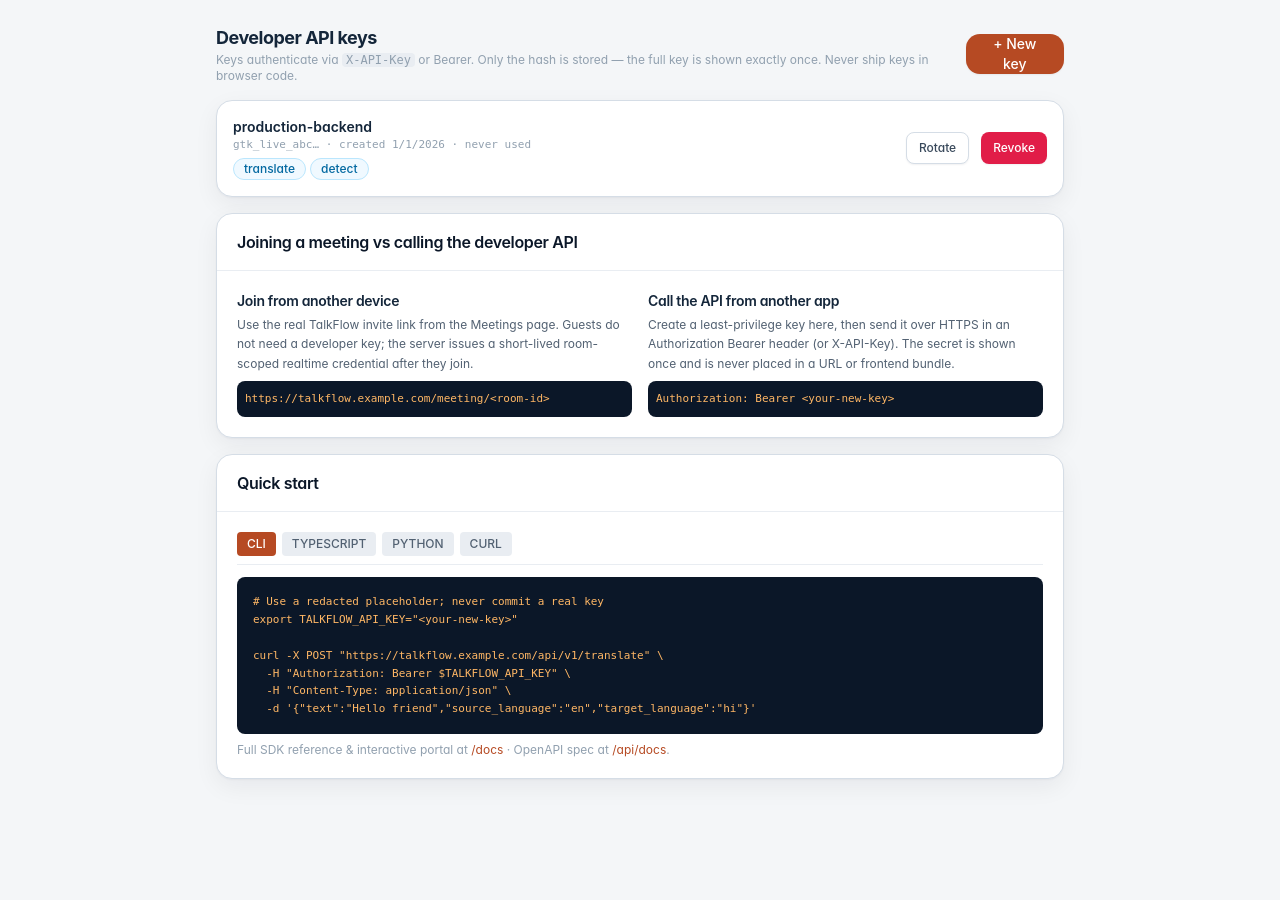
it: ApiKeys canonical service contract › shows plaintext_key returned by rotation
This screenshot has width=1280, height=900.
Click the button "Rotate" at (938, 148), box [906, 132, 969, 164]
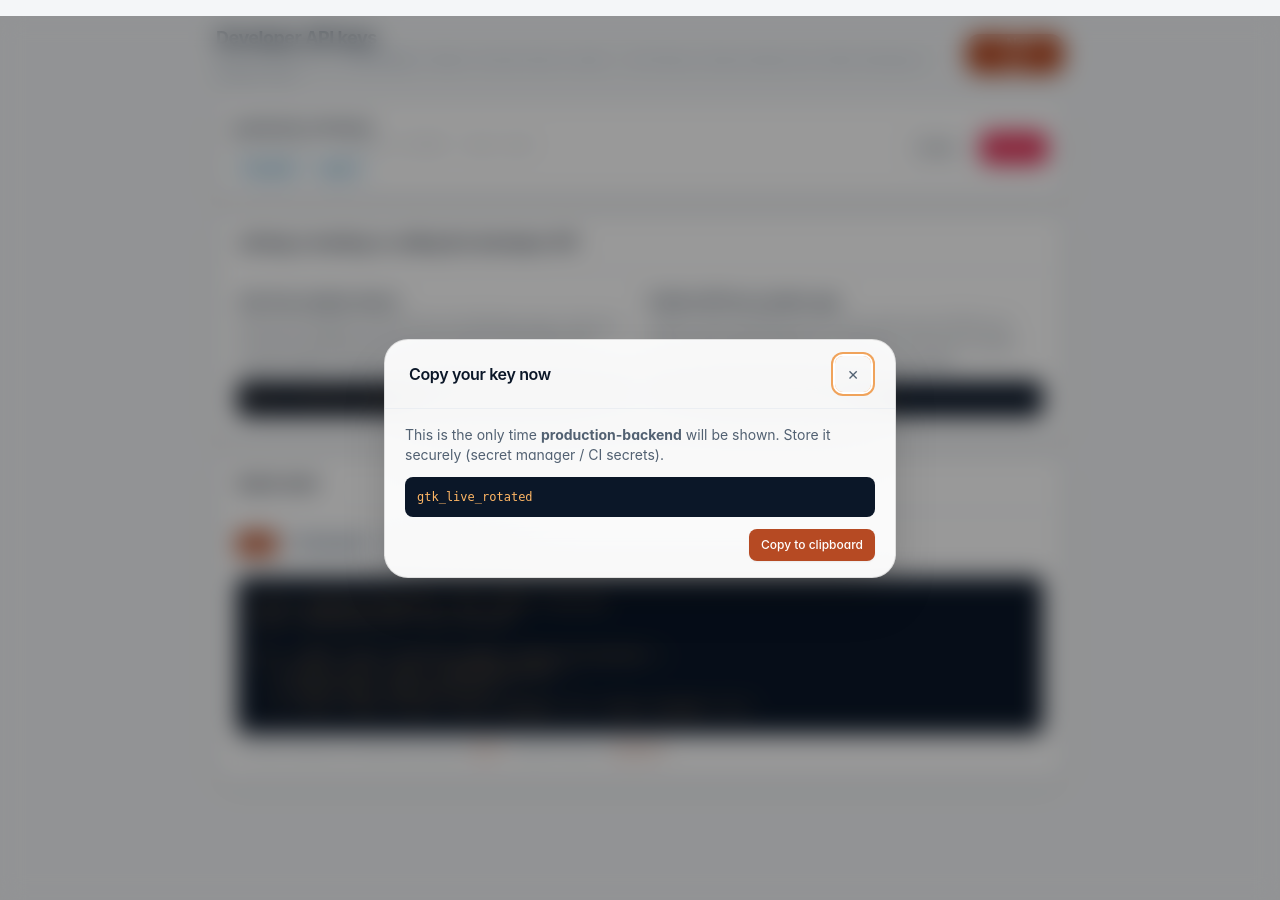
Expected: the text "gtk_live_rotated" is shown, [405, 476, 875, 516]
